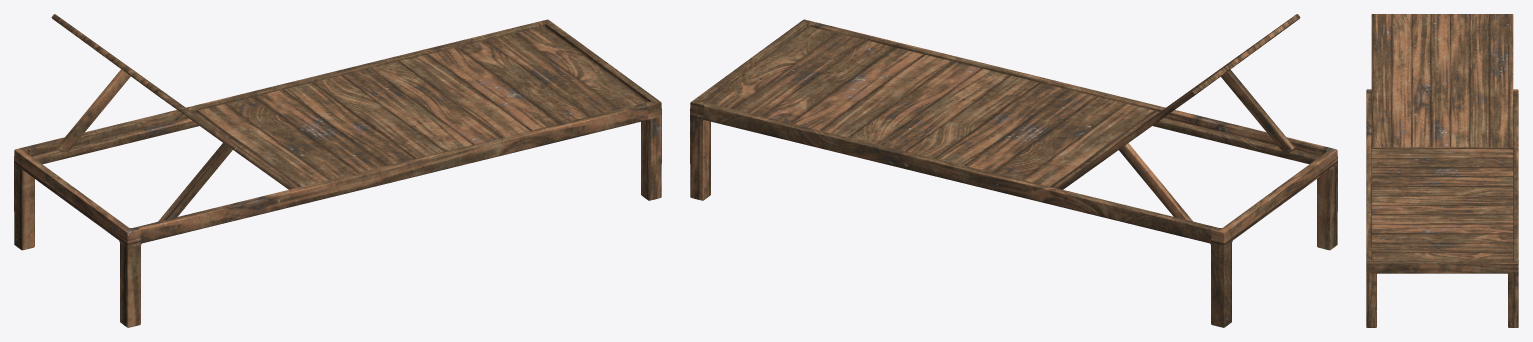
Rendered from example_longChair.fbx.
3 views of the same model, side by side, from view 1: azimuth 30°, elevation 25°; view 2: azimuth 150°, elevation 25°; view 3: azimuth 270°, elevation 25° (orthographic). The views are drawn at different scales.
Parts seen in each view (by area): view 1: pCube76; view 2: pCube76; view 3: pCube76.
Boxes of the visible parts, x1,y1,x2,y2 form: pCube76: (14, 14, 661, 327); pCube76: (690, 14, 1337, 327); pCube76: (1366, 14, 1518, 327).
Size of the model in its own units: 227 by 91.6 by 83.83.
1 material, 1 textured.
